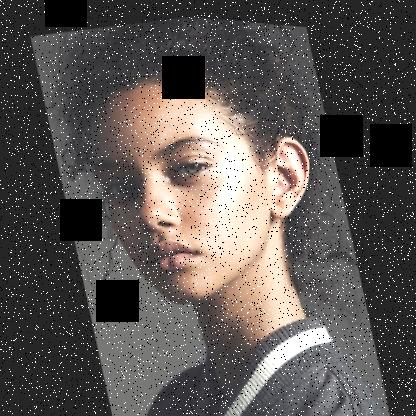Female: (71, 41, 334, 324)
